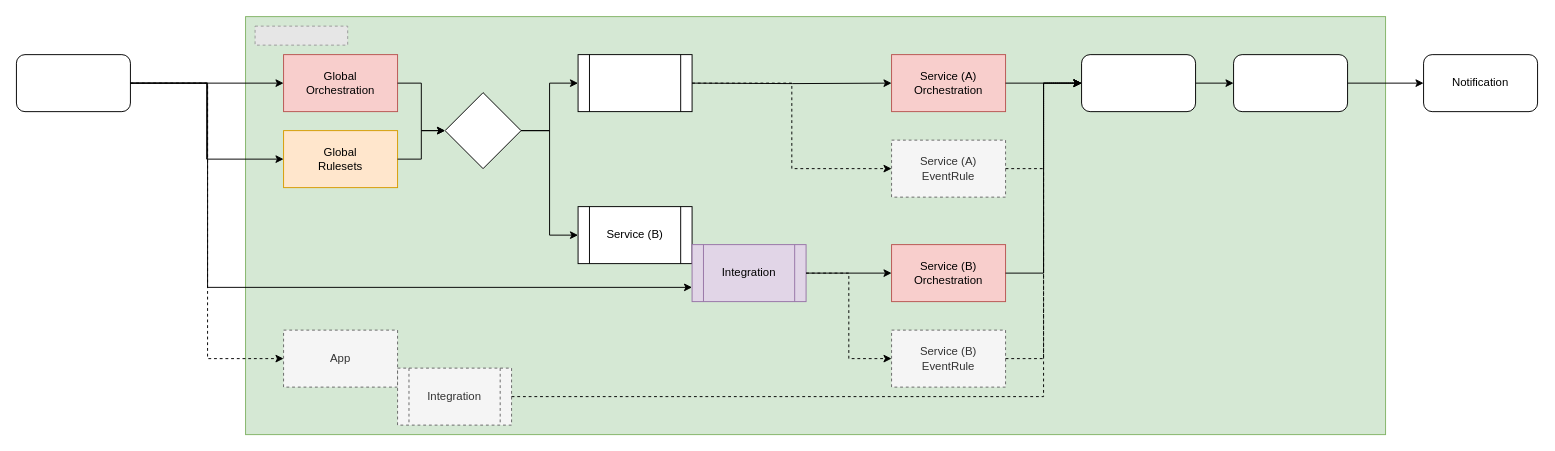
Image size: 1555x451. Some labels were removed from this diagram. Grey dashed boxes stand in for pictures. The centre of each missing label's shape, as x and y in pixels:
"Alert" goes at (1138,83).
"Event" goes at (72,83).
"Incident" goes at (1290,83).
"Routing" goes at (482,130).
"Service (A)" goes at (634,83).
